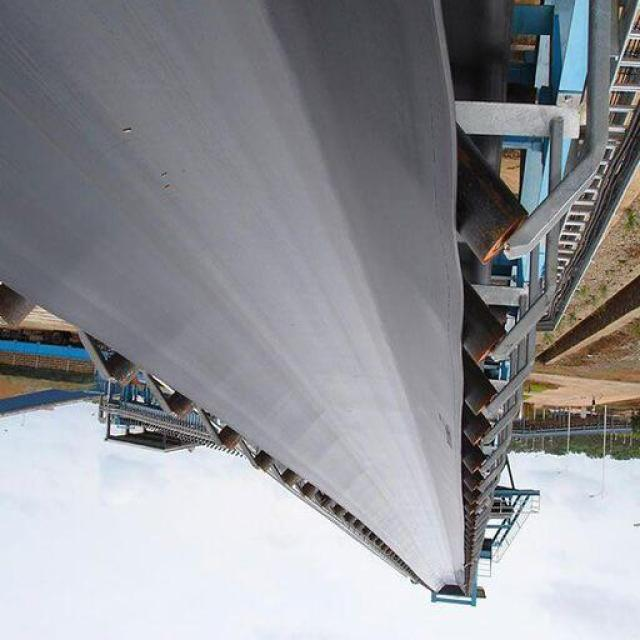conveyor: (1, 0, 467, 589)
